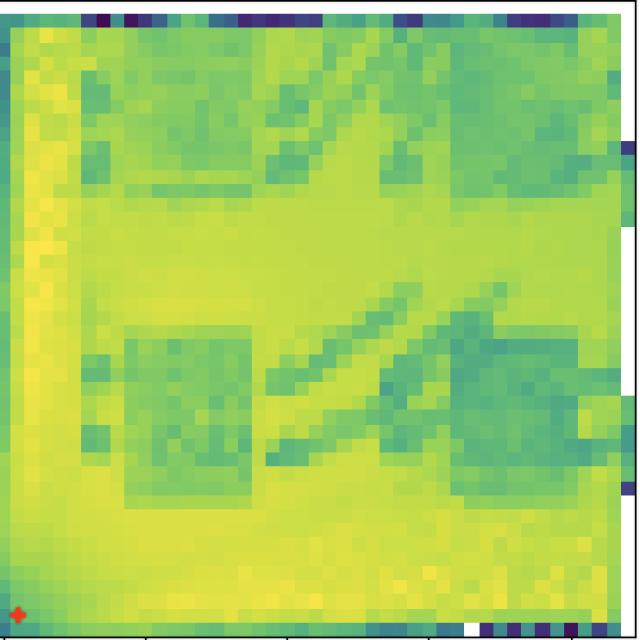Concrete: (107, 310, 263, 526)
Glass: (429, 36, 614, 222)
Metal: (79, 33, 272, 219)
Wood: (440, 310, 590, 532)
